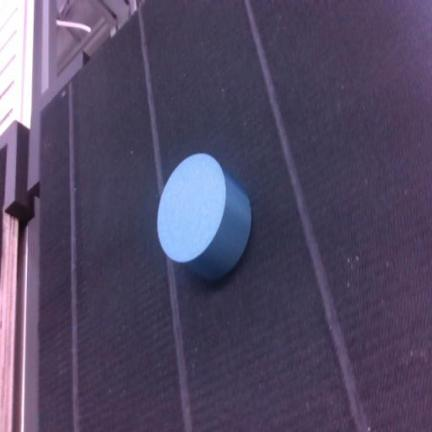cylinder: (157, 153, 251, 279)
